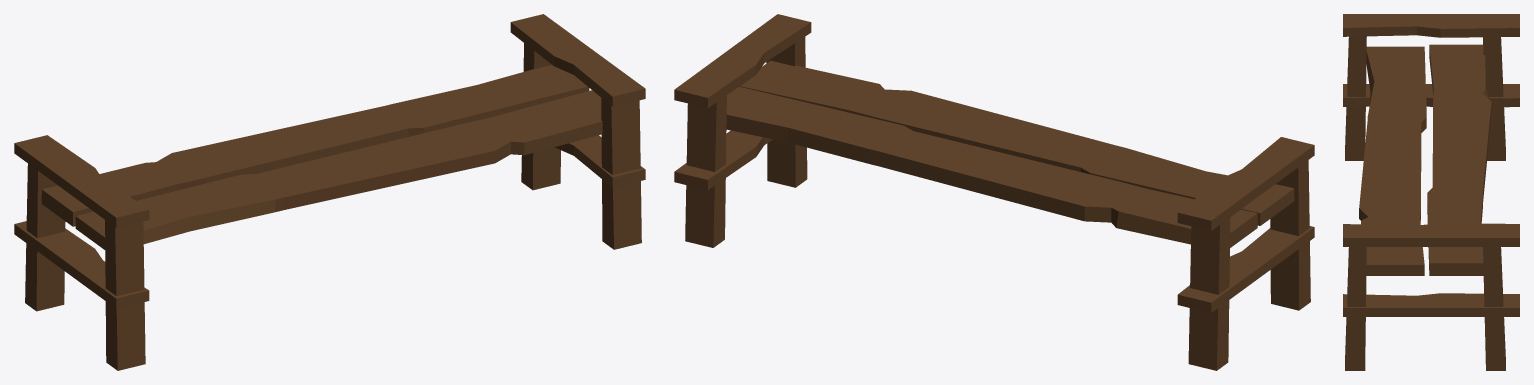
The model's file is Bench_2.glb.
3 views of the same model, side by side, from view 1: azimuth 30°, elevation 25°; view 2: azimuth 150°, elevation 25°; view 3: azimuth 270°, elevation 25° (orthographic). The views are drawn at different scales.
Parts seen in each view (by area): view 1: Bench_2_Cube.258; view 2: Bench_2_Cube.258; view 3: Bench_2_Cube.258.
Boxes of the visible parts, x1,y1,x2,y2 form: Bench_2_Cube.258: (14,14,645,370); Bench_2_Cube.258: (674,14,1314,370); Bench_2_Cube.258: (1343,14,1519,370).
Bounding box in the file's own units: 0.665 × 0.1856 × 0.2219.
